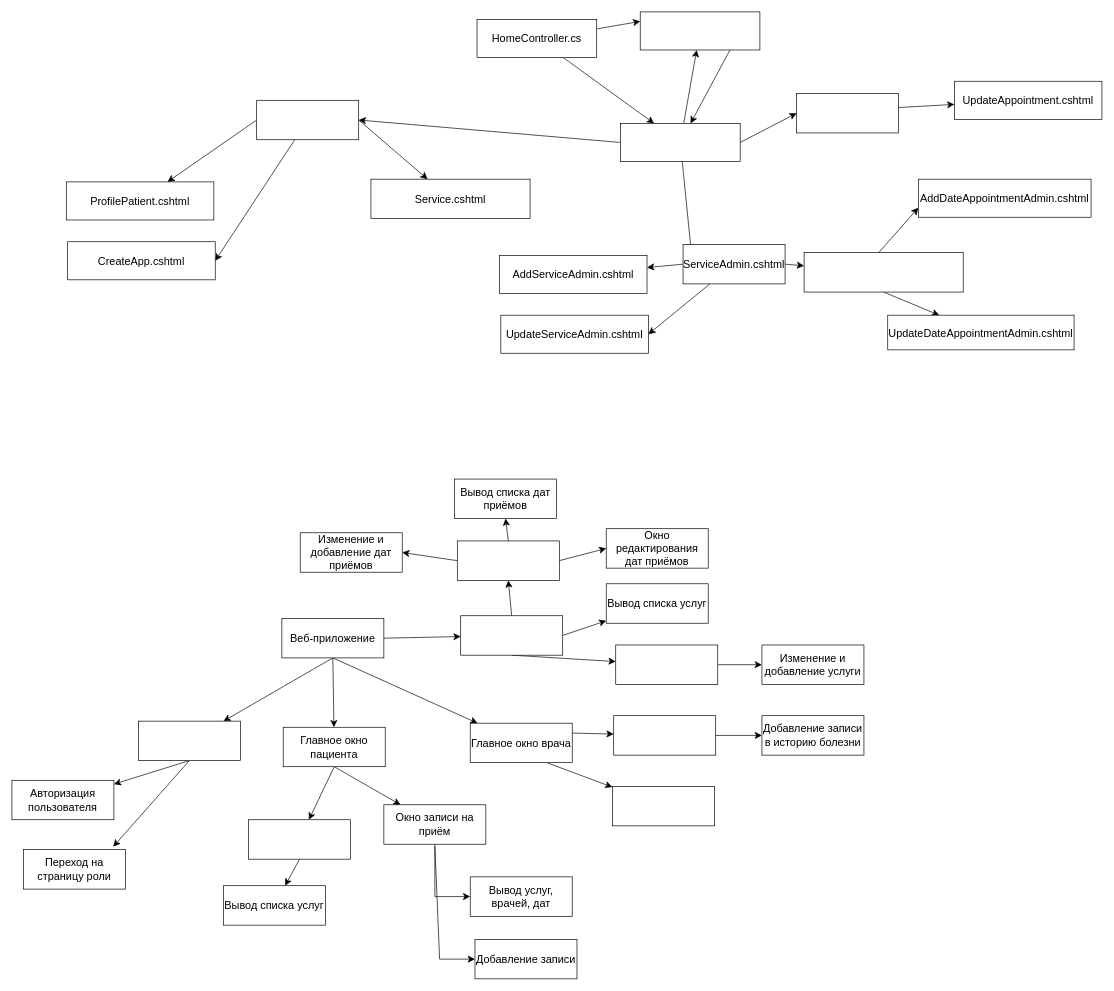
Some shapes in this 1114 by 991 pixel diagram are drawn without their labels. The centre of each missing label's shape, as x and y in pixels:
Auth.cshtml: (680,142)
DateAppointmentAdmin.cshtml: (883,272)
MainDoctor.cshtml: (847,113)
MainPatient.cshtml: (307,120)
Reg.cshtml: (700,30)
Вывод списка истории болезней: (663,806)
Главное окно администратора: (511,635)
Окно авторизации и регистрации: (189,740)
Окно дат приёмов: (508,560)
Окно редактирования записи: (664,735)
Окно редактирования услуг: (666,664)
Окно услуг: (299,839)
